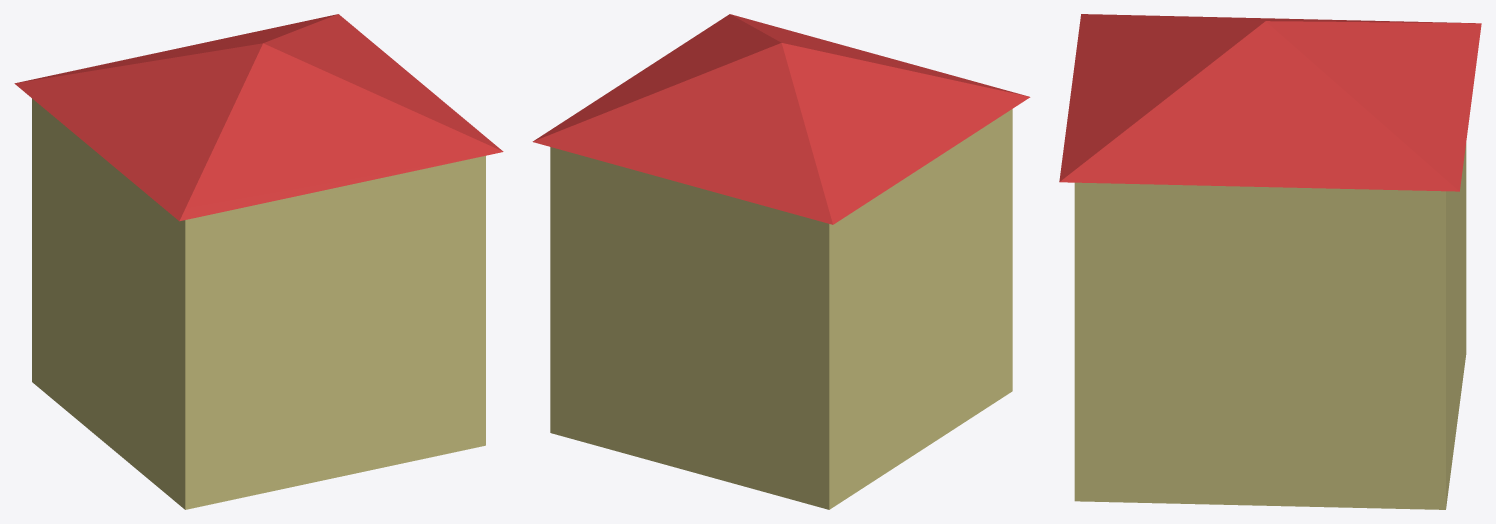
3 views of the same model, side by side, from view 1: azimuth 30°, elevation 25°; view 2: azimuth 150°, elevation 25°; view 3: azimuth 270°, elevation 25° (orthographic). The views are drawn at different scales.
Parts seen in each view (by area): view 1: group_5, group_3, group_4; view 2: group_5, group_3, group_4; view 3: group_5, group_3, group_4.
Boxes of the visible parts, x1,y1,x2,y2 form: group_5: (32, 98, 485, 509); group_3: (15, 14, 503, 220); group_4: (14, 14, 500, 221); group_5: (550, 109, 1012, 509); group_3: (533, 14, 1011, 224); group_4: (532, 20, 1030, 224); group_5: (1074, 143, 1466, 509); group_3: (1059, 14, 1481, 191); group_4: (1059, 14, 1475, 191).
Size of the model in its own units: 14.35 by 14.42 by 15.36.
